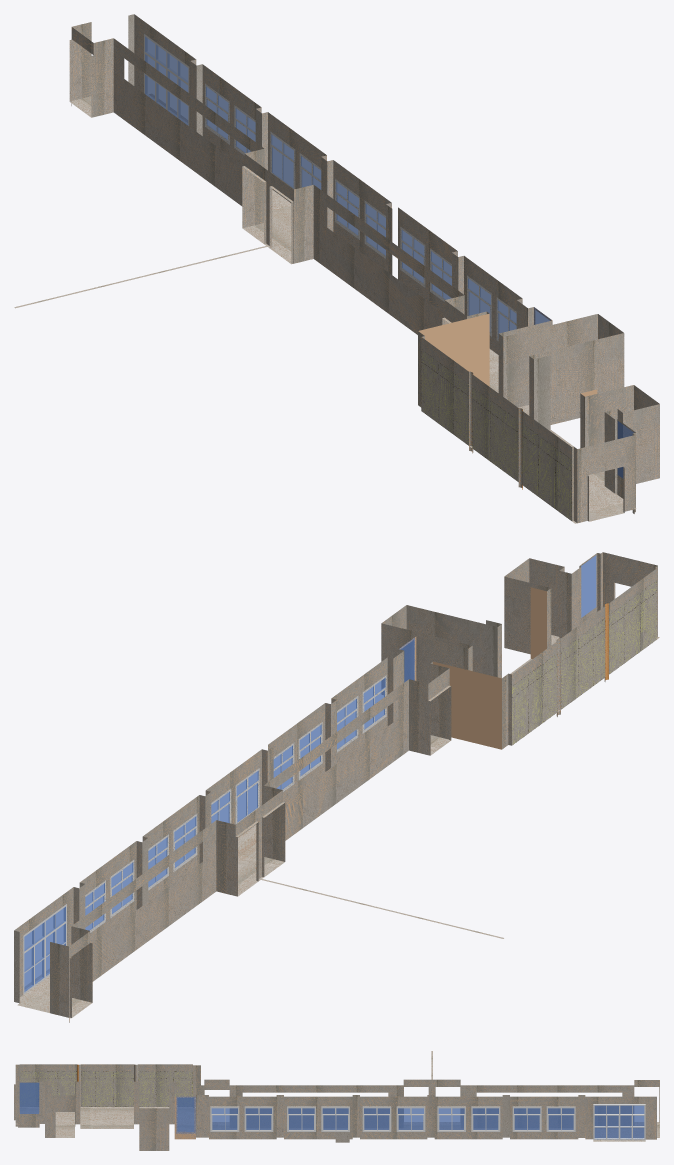
The model's file is COM017.obj.
The picture shows the model from 3 angles, top to bottom: view 1: azimuth 30°, elevation 25°; view 2: azimuth 150°, elevation 25°; view 3: azimuth 270°, elevation 25°; orthographic projection. The views are drawn at different scales.
Visible parts, largest first — view 1: Mesh84 COM017 Model, Mesh81 Grupo_36_1 COM017 Model, Mesh65 ventana1_3_9 COM017 Model, Mesh9 ventana1_3_2 COM017 Model, Mesh17 ventana1_3_3 COM017 Model, Mesh49 ventana1_3_7 COM017 Model, Mesh33 ventana1_3_5 COM017 Model; view 2: Mesh84 COM017 Model, Mesh81 Grupo_36_1 COM017 Model, Mesh73 ventana1_3_10 COM017 Model, Mesh25 ventana1_3_4 COM017 Model, Mesh41 ventana1_3_6 COM017 Model, Mesh1 ventana1_3_1 COM017 Model, Mesh57 ventana1_3_8 COM017 Model, Mesh17 ventana1_3_3 COM017 Model; view 3: Mesh84 COM017 Model, Mesh81 Grupo_36_1 COM017 Model, Mesh25 ventana1_3_4 COM017 Model, Mesh33 ventana1_3_5 COM017 Model, Mesh57 ventana1_3_8 COM017 Model, Mesh65 ventana1_3_9 COM017 Model, Mesh17 ventana1_3_3 COM017 Model, Mesh49 ventana1_3_7 COM017 Model, Mesh73 ventana1_3_10 COM017 Model, Mesh1 ventana1_3_1 COM017 Model, Mesh9 ventana1_3_2 COM017 Model, Mesh41 ventana1_3_6 COM017 Model.
Part boxes in pixels (x1,y1,x2,y2): Mesh84 COM017 Model: (14,14,659,523); Mesh81 Grupo_36_1 COM017 Model: (144,34,189,125); Mesh65 ventana1_3_9 COM017 Model: (270,131,295,189); Mesh9 ventana1_3_2 COM017 Model: (400,227,425,287); Mesh17 ventana1_3_3 COM017 Model: (467,275,491,336); Mesh49 ventana1_3_7 COM017 Model: (335,179,359,239); Mesh33 ventana1_3_5 COM017 Model: (205,83,229,144); Mesh84 COM017 Model: (14,552,659,1022); Mesh81 Grupo_36_1 COM017 Model: (23,904,66,994); Mesh73 ventana1_3_10 COM017 Model: (235,768,259,824); Mesh25 ventana1_3_4 COM017 Model: (362,675,386,733); Mesh41 ventana1_3_6 COM017 Model: (298,722,322,780); Mesh1 ventana1_3_1 COM017 Model: (173,813,197,871); Mesh57 ventana1_3_8 COM017 Model: (110,860,134,918); Mesh17 ventana1_3_3 COM017 Model: (337,696,358,752); Mesh84 COM017 Model: (14,1051,659,1150); Mesh81 Grupo_36_1 COM017 Model: (593,1104,645,1140); Mesh25 ventana1_3_4 COM017 Model: (210,1106,239,1131); Mesh33 ventana1_3_5 COM017 Model: (546,1106,575,1131); Mesh57 ventana1_3_8 COM017 Model: (512,1106,541,1131); Mesh65 ventana1_3_9 COM017 Model: (471,1106,500,1131); Mesh17 ventana1_3_3 COM017 Model: (244,1106,273,1131); Mesh49 ventana1_3_7 COM017 Model: (396,1106,425,1131); Mesh73 ventana1_3_10 COM017 Model: (362,1106,391,1131); Mesh1 ventana1_3_1 COM017 Model: (437,1106,465,1131); Mesh9 ventana1_3_2 COM017 Model: (321,1106,349,1131); Mesh41 ventana1_3_6 COM017 Model: (287,1106,315,1131).
Bounding box in the file's own units: 18.03 × 3.85 × 49.26.
12 materials, 3 textured.
